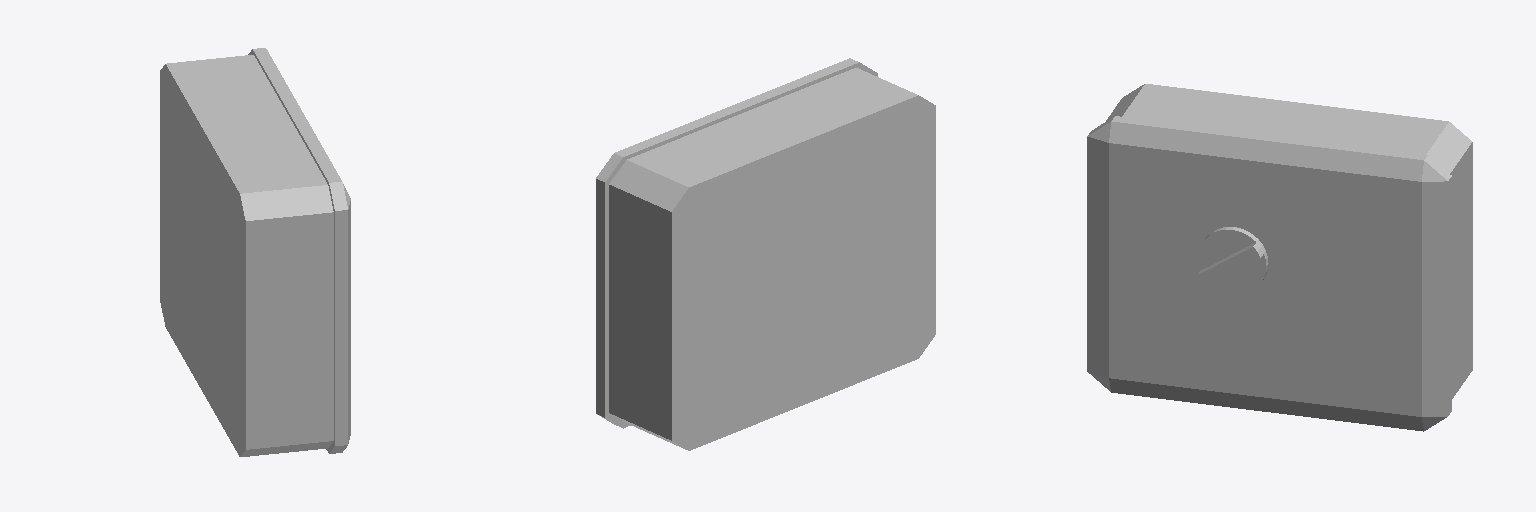
File: controlbox2.obj
The picture shows the model from 3 angles: view 1: azimuth 30°, elevation 25°; view 2: azimuth 150°, elevation 25°; view 3: azimuth 270°, elevation 25°; orthographic projection.
Parts seen in each view (by area): view 1: Cube.004_Cube.006; view 2: Cube.004_Cube.006; view 3: Cube.004_Cube.006.
Boxes of the visible parts, box(x1,y1,x2,y2) form: Cube.004_Cube.006: box(160, 48, 350, 456); Cube.004_Cube.006: box(596, 58, 935, 450); Cube.004_Cube.006: box(1087, 84, 1472, 431).
Size of the model in its own units: 0.2203 by 0.3196 by 0.4113.